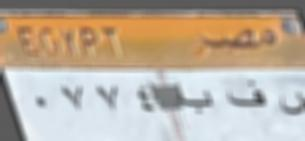0: (30, 90, 53, 114)
4: (133, 81, 154, 118)
7: (94, 78, 125, 116), (58, 82, 90, 115)
baa: (176, 86, 213, 116)
faa: (221, 75, 269, 111)
